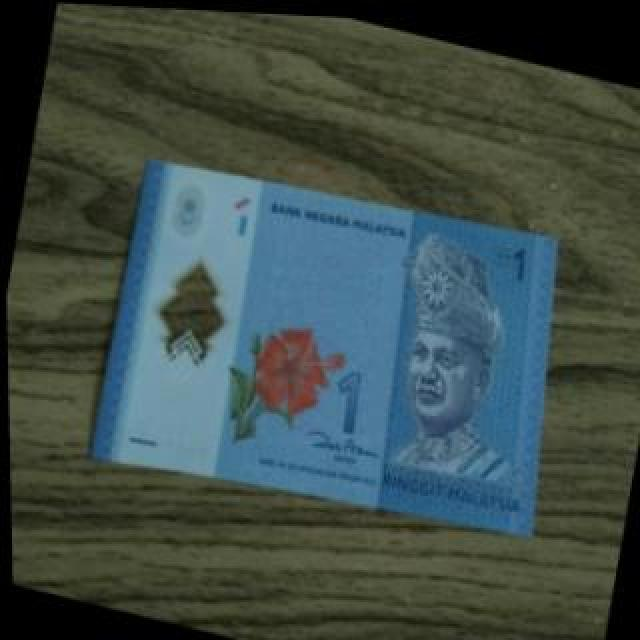1 Ringgit: (66, 120, 604, 574)
